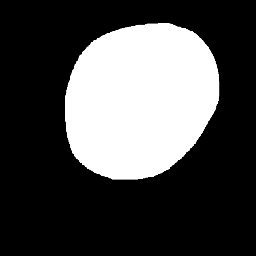mass: (66, 19, 220, 178)
